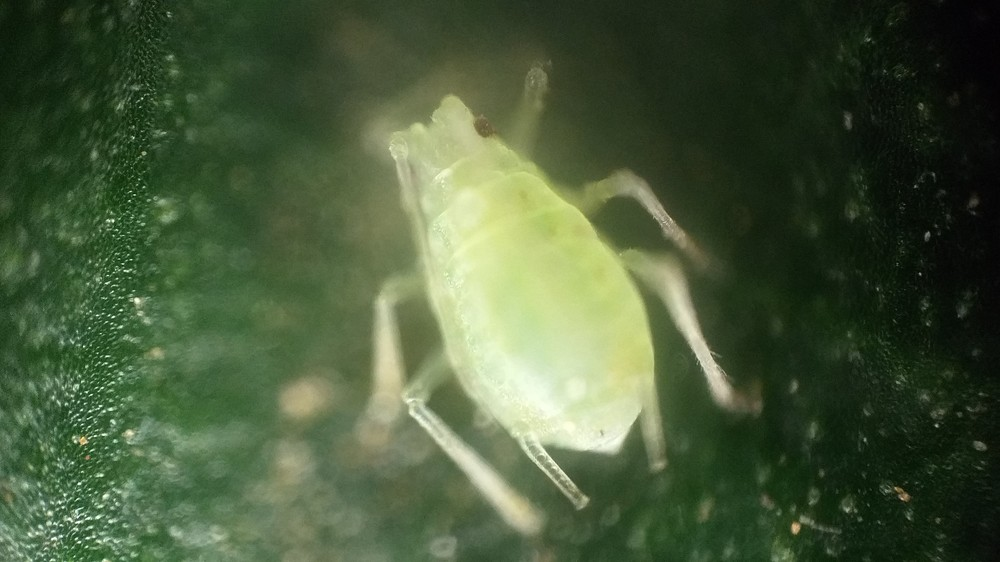Pulgon: (296, 50, 788, 543)
